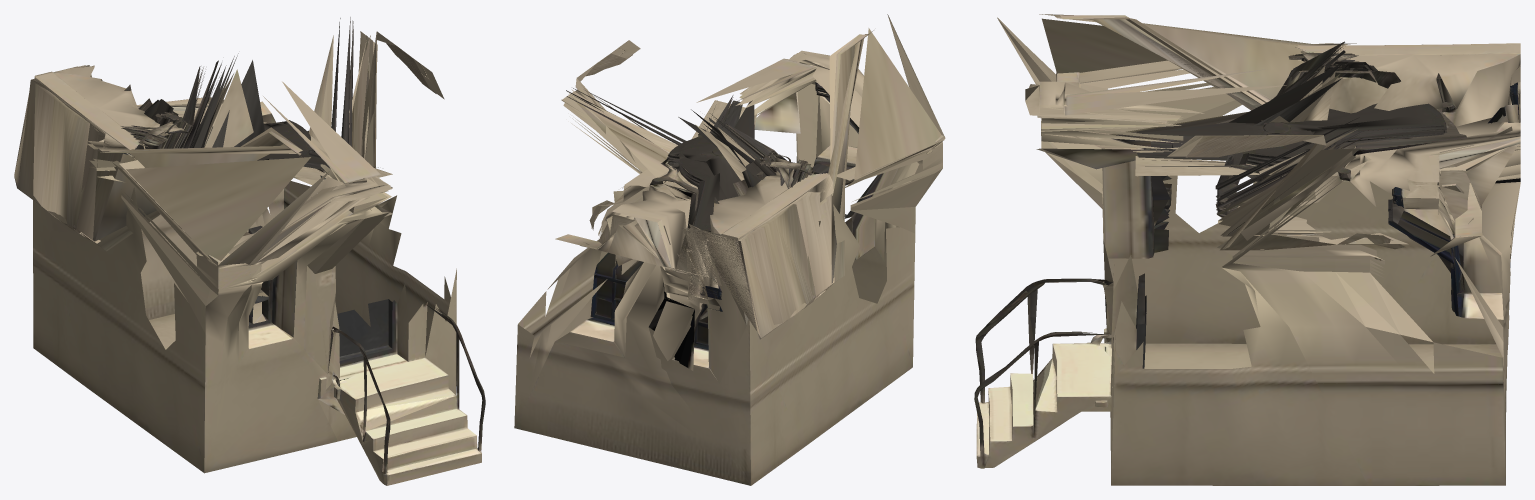
Rendered from concrete_wreck.glb.
3 renders of one model, left to right at view 1: azimuth 30°, elevation 25°; view 2: azimuth 150°, elevation 25°; view 3: azimuth 270°, elevation 25°, orthographic. The views are drawn at different scales.
Visible parts, largest first — view 1: wall.001, roof.001; view 2: wall.001, roof.001; view 3: wall.001, roof.001.
Boxes of the visible parts, <box> form: wall.001: <box>14,17,485,485</box>; roof.001: <box>14,31,444,265</box>; wall.001: <box>514,14,945,485</box>; roof.001: <box>555,15,943,338</box>; wall.001: <box>974,14,1520,485</box>; roof.001: <box>997,15,1520,255</box>.
Bounding box in the file's own units: 3.6 × 3.98 × 5.33.
1 material, 1 textured.
